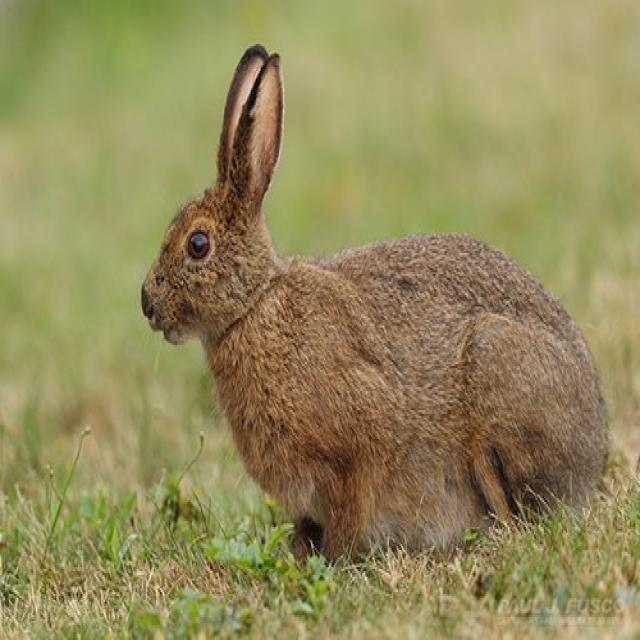Hare: (138, 39, 614, 564)
